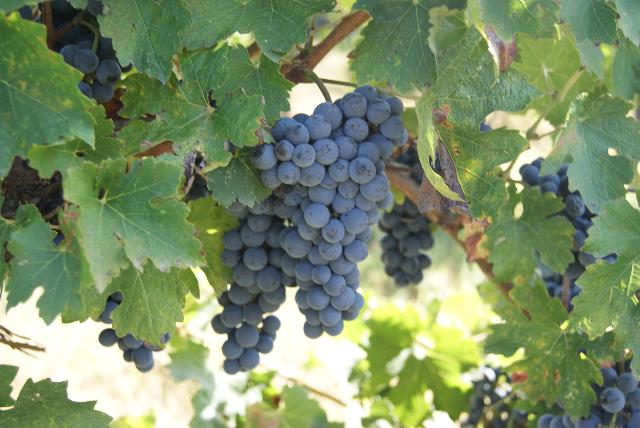grapes: (251, 89, 401, 336), (211, 196, 286, 375)
